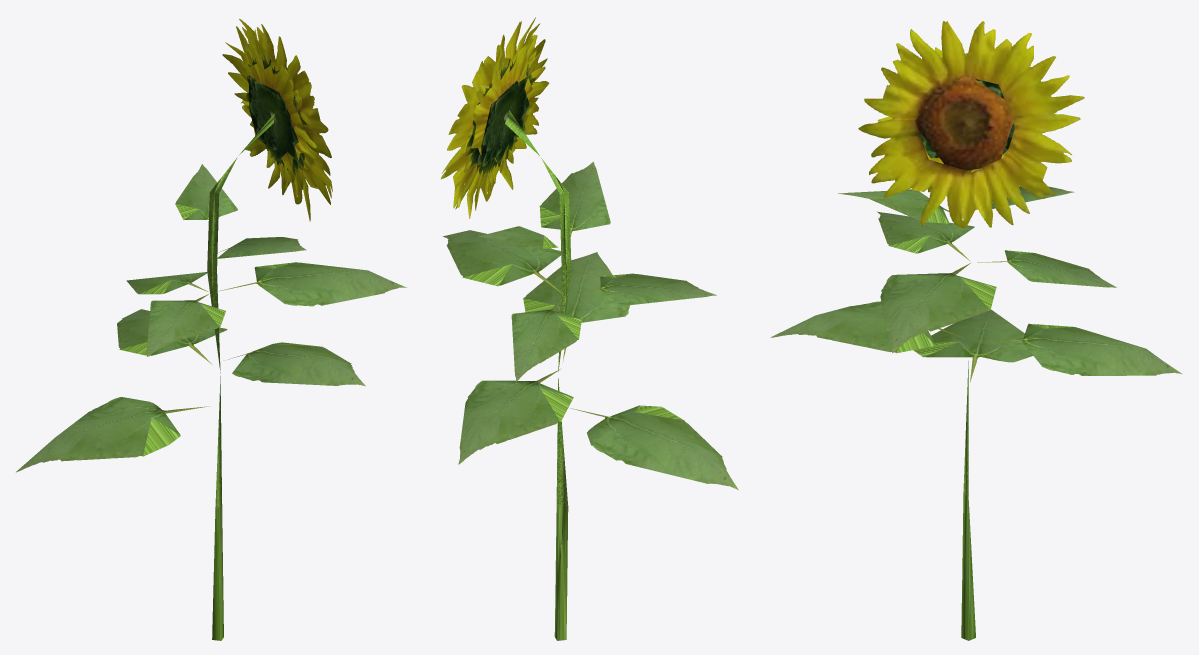
Rendered from sunflower_lo.glb.
3 views of the same model, side by side, from view 1: azimuth 30°, elevation 25°; view 2: azimuth 150°, elevation 25°; view 3: azimuth 270°, elevation 25° (orthographic). The views are drawn at different scales.
Visible parts, largest first — view 1: sunflower_lo; view 2: sunflower_lo; view 3: sunflower_lo.
Boxes of the visible parts, <box> form: sunflower_lo: <box>16,19,406,640</box>; sunflower_lo: <box>441,17,738,640</box>; sunflower_lo: <box>770,21,1182,640</box>.
Size of the model in its own units: 1.17 by 1.95 by 1.13.
Materials: 1 (1 with a texture image).
